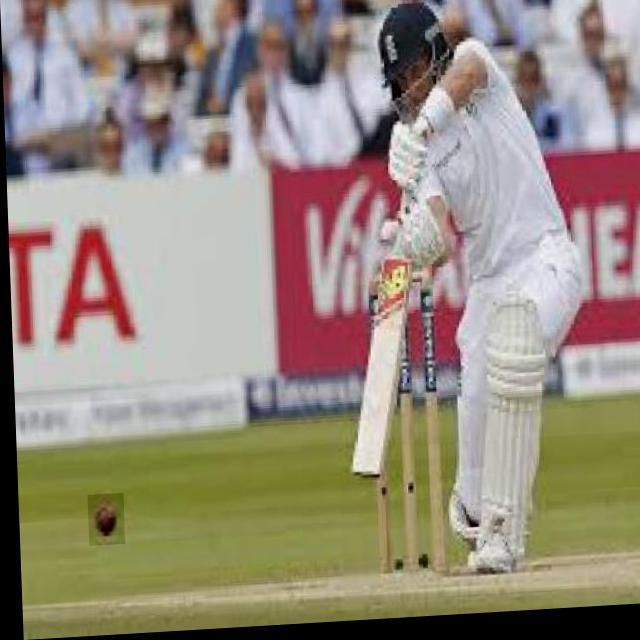-: (84, 494, 121, 547)
